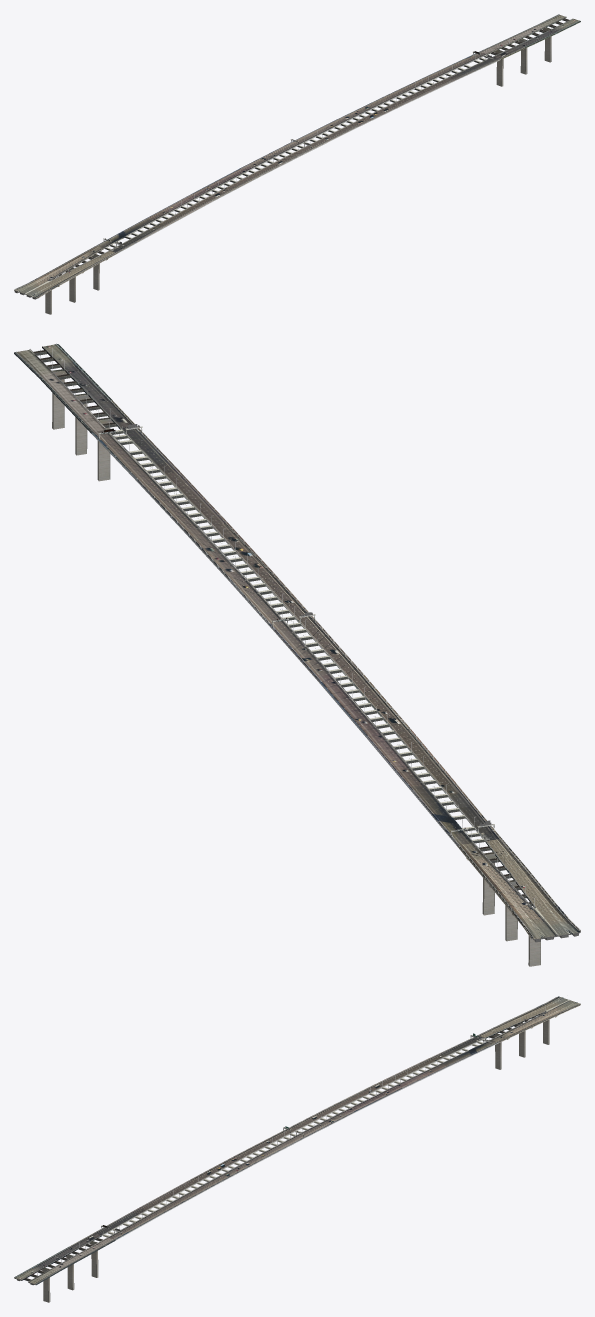
File: tsing_sha_highway_bridge.glb
The picture shows the model from 3 angles, top to bottom: view 1: azimuth 90°, elevation 25°; view 2: azimuth 150°, elevation 25°; view 3: azimuth 270°, elevation 25°; orthographic projection. The views are drawn at different scales.
Parts seen in each view (by area): view 1: I296272022407063A0; view 2: I296272022407063A0; view 3: I296272022407063A0.
Part boxes in pixels (box(x1,y1,x2,y2)): I296272022407063A0: box(14, 14, 580, 314); I296272022407063A0: box(14, 343, 580, 966); I296272022407063A0: box(14, 996, 580, 1302).
Size of the model in its own units: 1258 by 96.1 by 1055.
2 materials, 2 textured.
